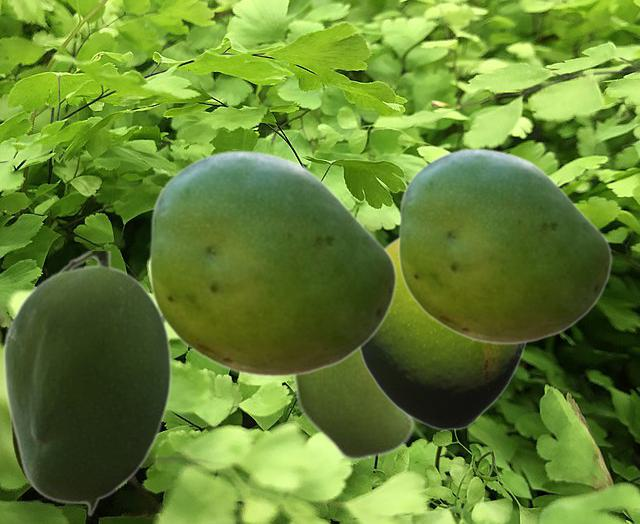green_mango: (148, 149, 396, 377), (1, 251, 171, 516), (397, 147, 611, 344), (358, 237, 529, 430), (291, 351, 418, 461)
